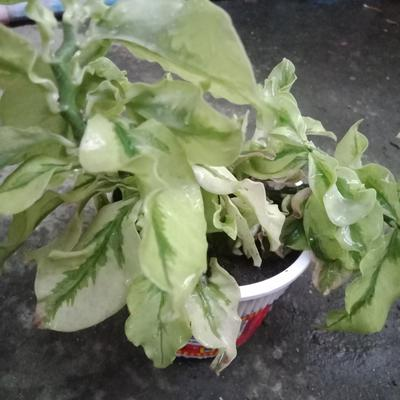Pothos plant: (5, 21, 389, 318)
